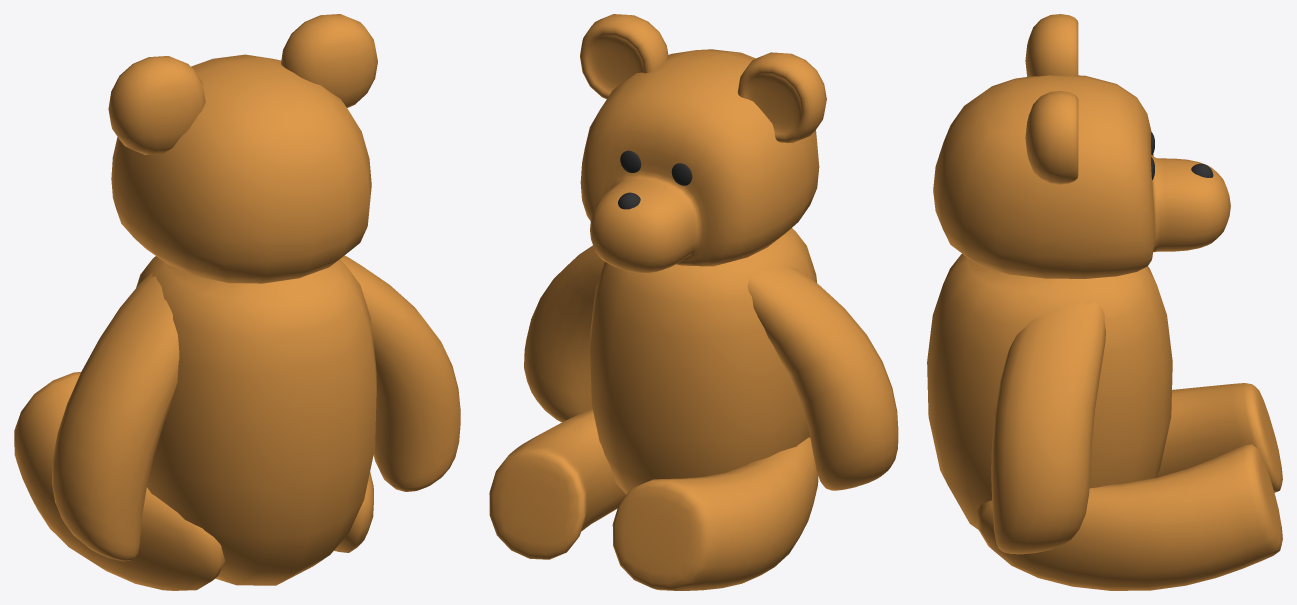
The model's file is bear.fbx.
The picture shows the model from 3 angles, left to right: view 1: azimuth 30°, elevation 25°; view 2: azimuth 150°, elevation 25°; view 3: azimuth 270°, elevation 25°; orthographic projection. The views are drawn at different scales.
Parts seen in each view (by area): view 1: FM.Ms.bear; view 2: FM.Ms.bear; view 3: FM.Ms.bear.
Boxes of the visible parts, bbox=[...] form: FM.Ms.bear: bbox=[14, 14, 460, 590]; FM.Ms.bear: bbox=[489, 14, 898, 590]; FM.Ms.bear: bbox=[927, 14, 1282, 590].
Bounding box in the file's own units: 203 × 265 × 174.
